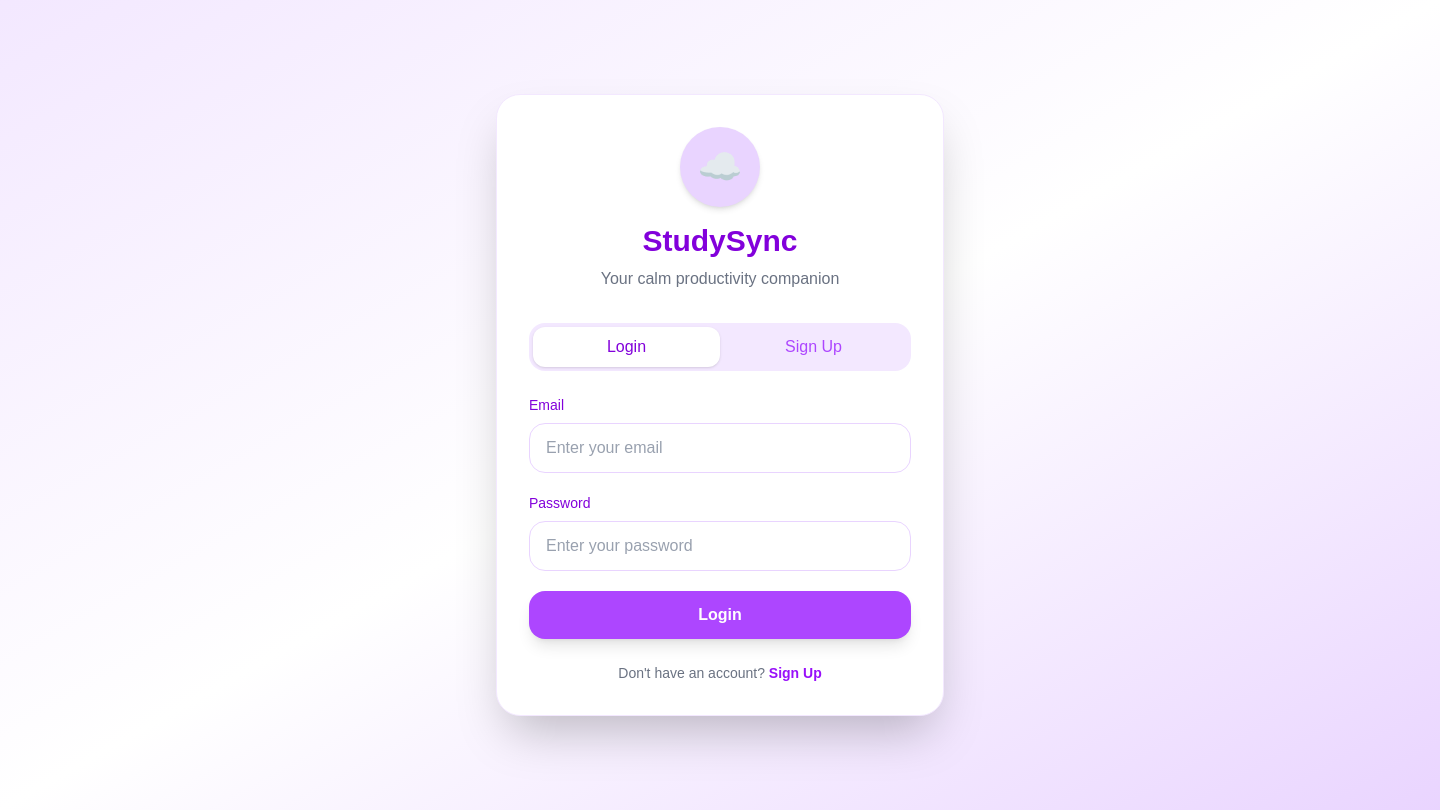
Test: LoginPage › shows a network error message when login fetch fails
Type "test@example.com" into the field with placeholder "Enter your email". click: {"x": 720, "y": 448}
box: x1=529 y1=423 x2=911 y2=473
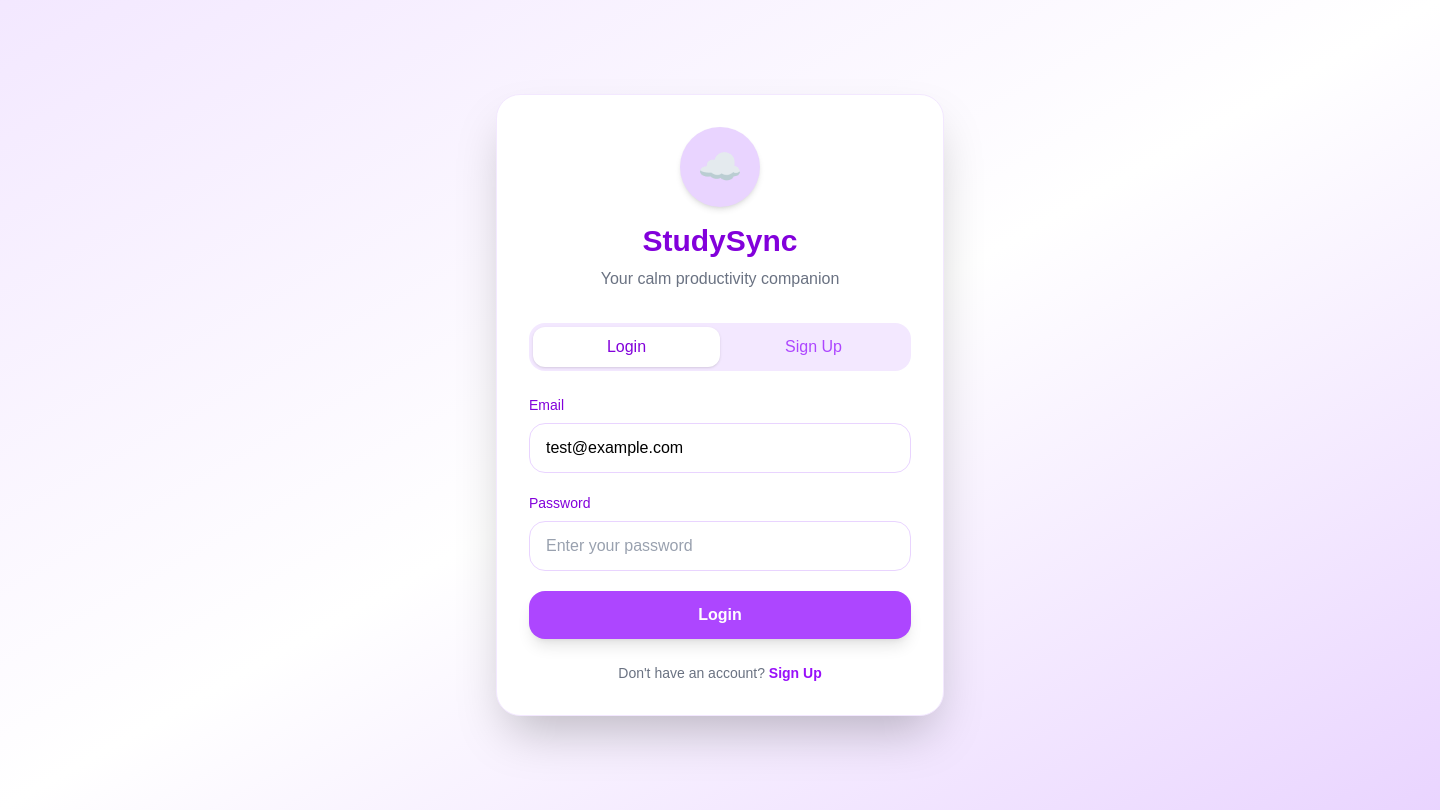
Type "password123" into the password field with placeholder "Enter your password". click: {"x": 720, "y": 546}
box: x1=529 y1=521 x2=911 y2=571
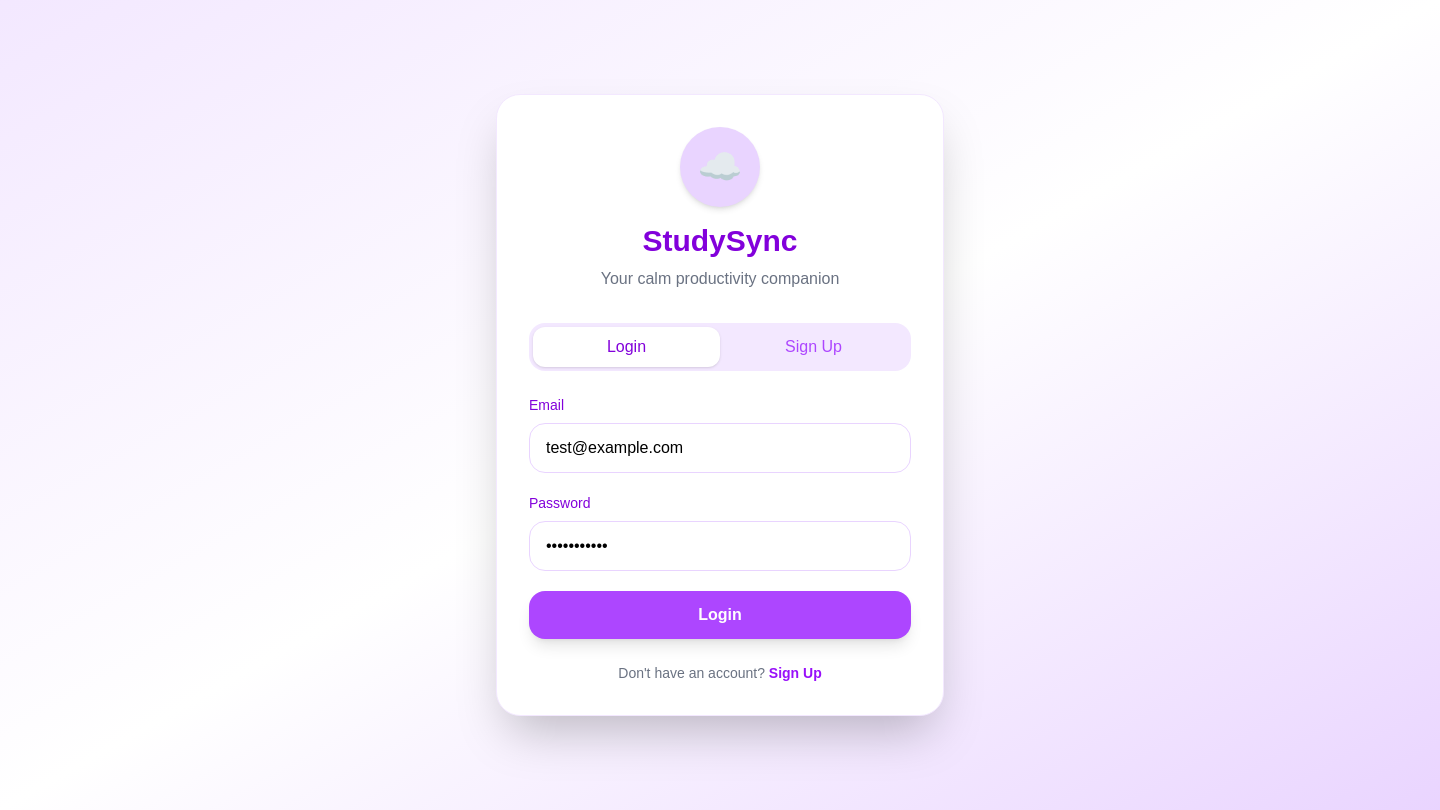
Click the button "Login" below "Password". click: {"x": 720, "y": 615}
box: x1=529 y1=591 x2=911 y2=639
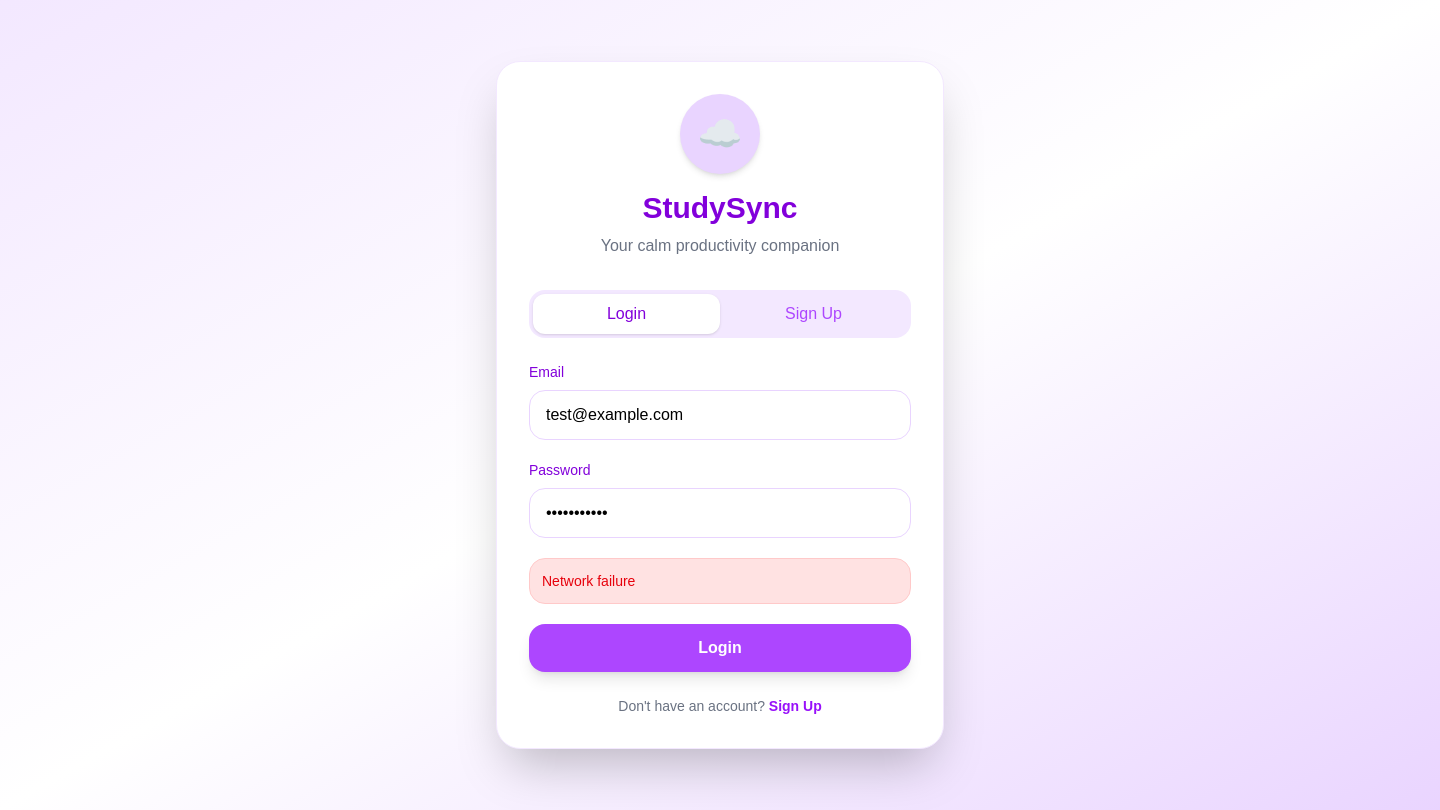
Result: the text "Network failure" is shown at x1=529 y1=558 x2=911 y2=604
